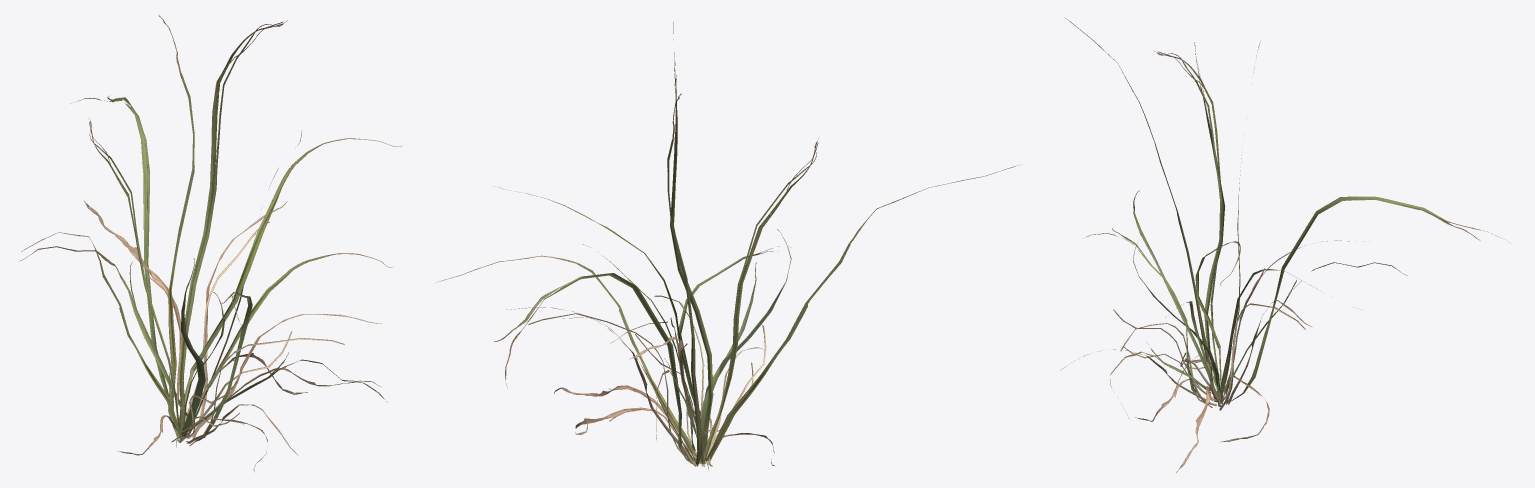
Rendered from grass_medium_02_c.gltf.
The picture shows the model from 3 angles, left to right: view 1: azimuth 30°, elevation 25°; view 2: azimuth 150°, elevation 25°; view 3: azimuth 270°, elevation 25°; orthographic projection. The views are drawn at different scales.
Parts seen in each view (by area): view 1: grass_medium_02_c__x; view 2: grass_medium_02_c__x; view 3: grass_medium_02_c__x.
Boxes of the visible parts, bbox=[...] form: grass_medium_02_c__x: bbox=[19, 15, 402, 471]; grass_medium_02_c__x: bbox=[436, 22, 1019, 469]; grass_medium_02_c__x: bbox=[1060, 17, 1509, 472].
Size of the model in its own units: 0.2617 by 0.2317 by 0.2495.
1 material, 1 textured.
